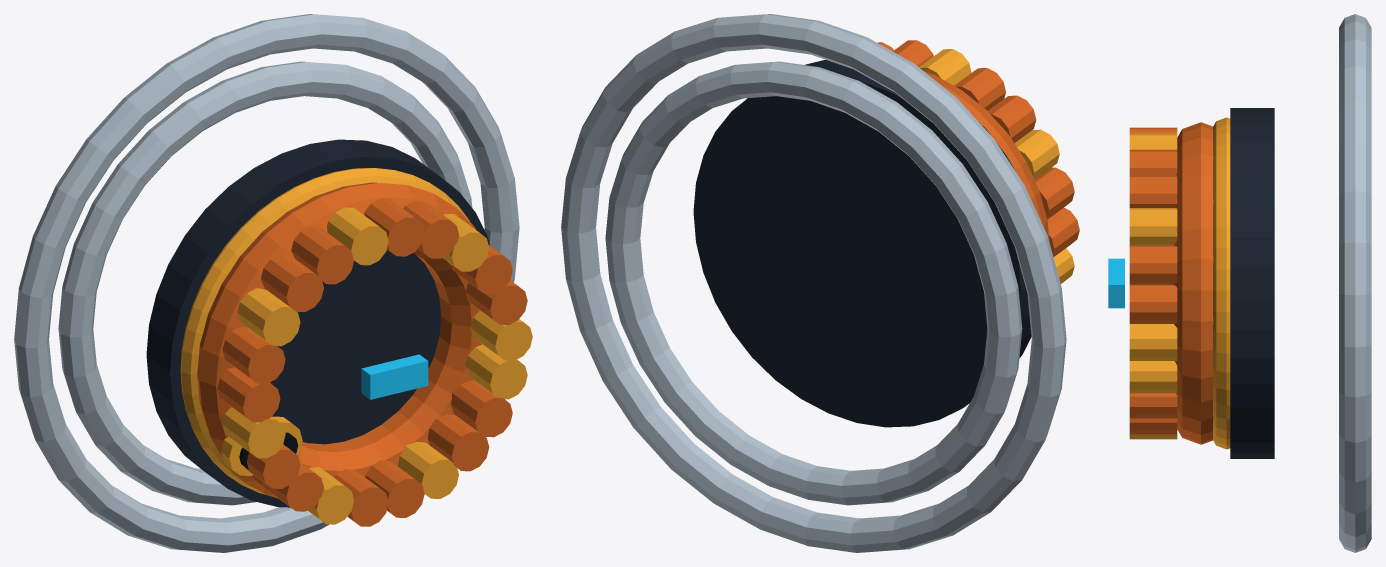
Rendered from 18_L87_MagneticBearingStationC.fbx.
3 renders of one model, left to right at view 1: azimuth 30°, elevation 25°; view 2: azimuth 150°, elevation 25°; view 3: azimuth 270°, elevation 25°, orthographic. The views are drawn at different scales.
Visible parts, largest first — view 1: L87_MagneticBearingStationC, L87_MagneticBearingStationC_Part_0002, L87_MagneticBearingStationC_Part_0000, L87_MagneticBearingStationC_Part_0001, L87_MagneticBearingStationC_Part_0004, L87_MagneticBearingStationC_Part_0005; view 2: L87_MagneticBearingStationC, L87_MagneticBearingStationC_Part_0000, L87_MagneticBearingStationC_Part_0002, L87_MagneticBearingStationC_Part_0001; view 3: L87_MagneticBearingStationC_Part_0002, L87_MagneticBearingStationC, L87_MagneticBearingStationC_Part_0000, L87_MagneticBearingStationC_Part_0001, L87_MagneticBearingStationC_Part_0004.
Part boxes in pixels (left/top/right/bottom): L87_MagneticBearingStationC: left=14, top=14, right=519, bottom=552; L87_MagneticBearingStationC_Part_0002: left=197, top=182, right=527, bottom=526; L87_MagneticBearingStationC_Part_0000: left=146, top=139, right=489, bottom=507; L87_MagneticBearingStationC_Part_0001: left=180, top=168, right=532, bottom=524; L87_MagneticBearingStationC_Part_0004: left=361, top=354, right=428, bottom=399; L87_MagneticBearingStationC_Part_0005: left=221, top=437, right=252, bottom=475; L87_MagneticBearingStationC: left=561, top=14, right=1066, bottom=552; L87_MagneticBearingStationC_Part_0000: left=693, top=60, right=1031, bottom=427; L87_MagneticBearingStationC_Part_0002: left=877, top=40, right=1079, bottom=256; L87_MagneticBearingStationC_Part_0001: left=919, top=49, right=1074, bottom=283; L87_MagneticBearingStationC_Part_0002: left=1129, top=122, right=1213, bottom=444; L87_MagneticBearingStationC: left=1339, top=14, right=1371, bottom=552; L87_MagneticBearingStationC_Part_0000: left=1230, top=108, right=1274, bottom=458; L87_MagneticBearingStationC_Part_0001: left=1129, top=117, right=1230, bottom=449; L87_MagneticBearingStationC_Part_0004: left=1108, top=258, right=1124, bottom=308.
Size of the model in its own units: 147 by 147 by 71.68.
